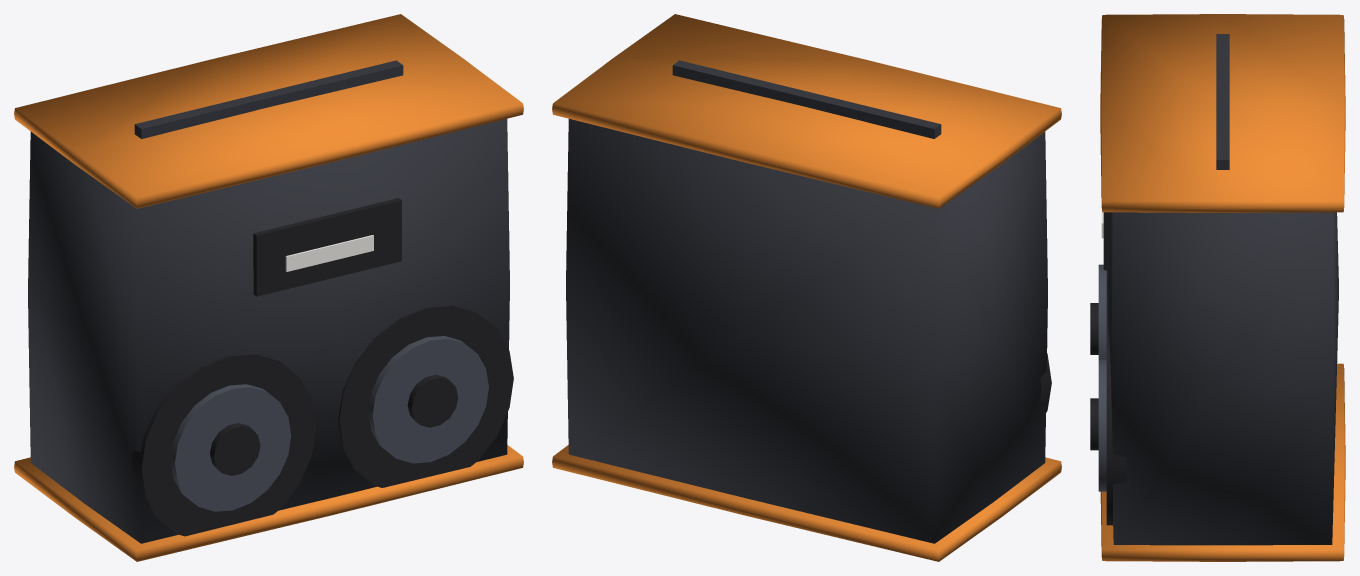
Rendered from jbl_speaker.glb.
3 renders of one model, left to right at view 1: azimuth 30°, elevation 25°; view 2: azimuth 150°, elevation 25°; view 3: azimuth 270°, elevation 25°, orthographic.
Visible parts, largest first — view 1: root; view 2: root; view 3: root.
Part boxes in pixels (bbox=[...]): root: bbox=[14, 14, 523, 561]; root: bbox=[552, 14, 1061, 561]; root: bbox=[1090, 14, 1345, 561].
Bounding box in the file's own units: 1.34 × 1.24 × 0.77.
